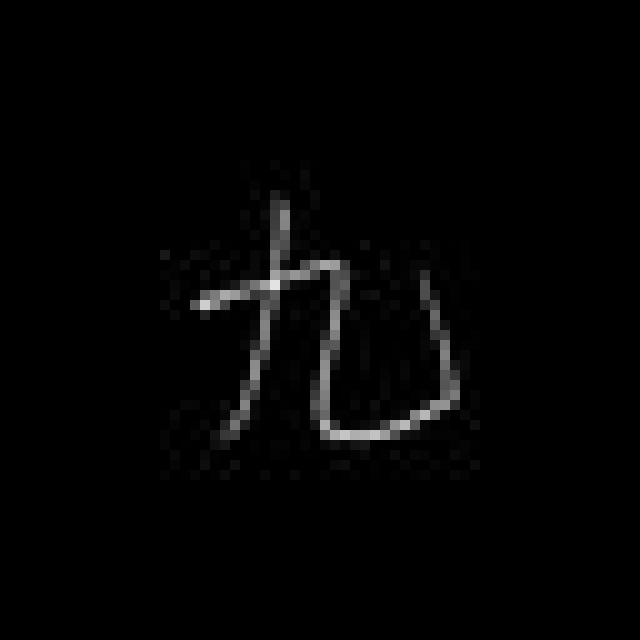9 -nine-: (188, 196, 465, 454)
